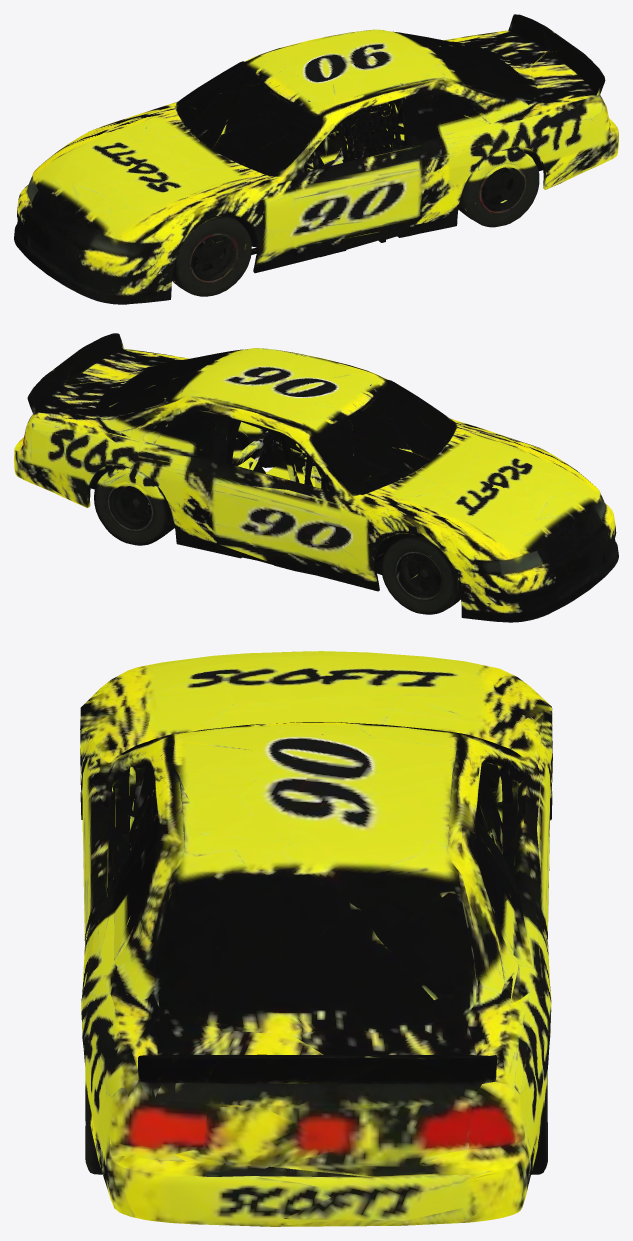
The model's file is car-90-nineties.glb.
3 views of the same model, one above another, from view 1: azimuth 30°, elevation 25°; view 2: azimuth 150°, elevation 25°; view 3: azimuth 270°, elevation 25° (orthographic). The views are drawn at different scales.
Visible parts, largest first — view 1: Mesh_0; view 2: Mesh_0; view 3: Mesh_0.
Boxes of the visible parts, x1,y1,x2,y2 form: Mesh_0: [14, 14, 618, 304]; Mesh_0: [14, 333, 618, 622]; Mesh_0: [80, 651, 552, 1226].
Size of the model in its own units: 1.9 by 0.4974 by 0.7263.
1 material, 1 textured.
